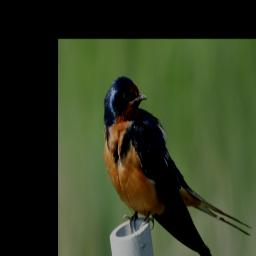Swallow: (102, 72, 252, 256)
